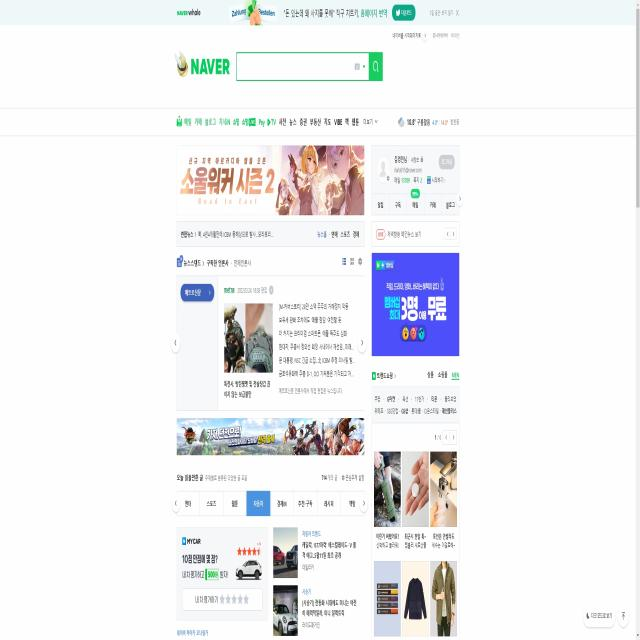search: (234, 47, 384, 86)
side-panel: (370, 142, 462, 639)
tab-bar: (176, 485, 367, 520), (175, 110, 378, 132)
